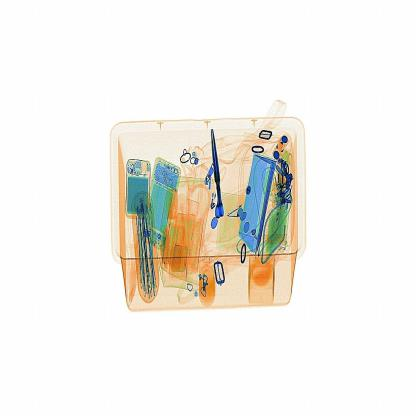gun: (205, 108, 241, 231)
